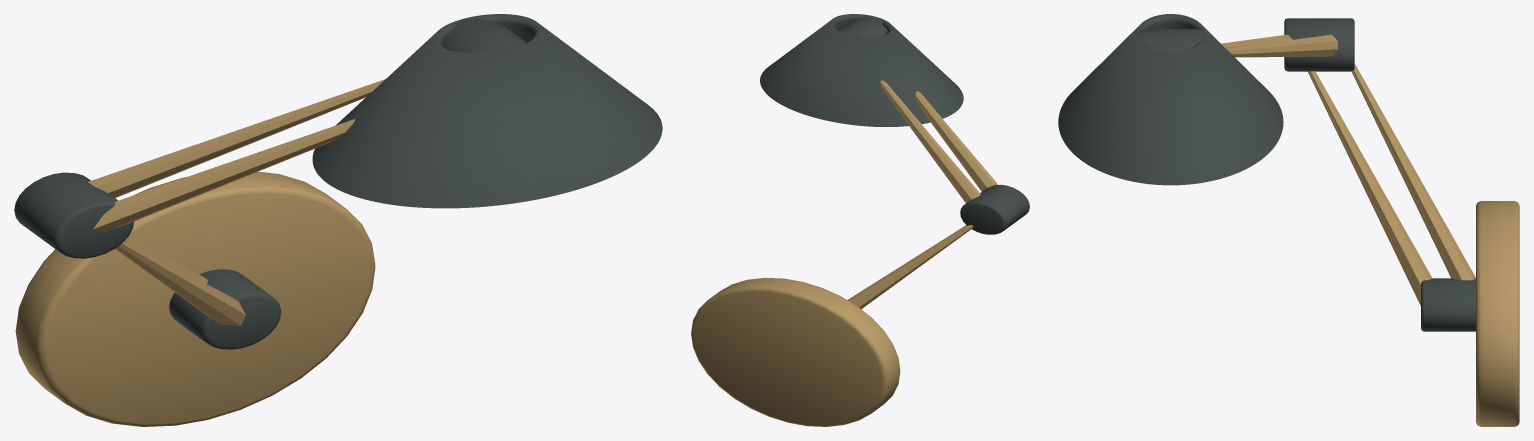
File: reading-wall-lamp.glb
3 views of the same model, side by side, from view 1: azimuth 30°, elevation 25°; view 2: azimuth 150°, elevation 25°; view 3: azimuth 270°, elevation 25° (orthographic). The views are drawn at different scales.
Visible parts, largest first — view 1: catalog_surface_RealismUV; view 2: catalog_surface_RealismUV; view 3: catalog_surface_RealismUV.
Part boxes in pixels (x1,y1,x2,y2): catalog_surface_RealismUV: (14, 14, 662, 426); catalog_surface_RealismUV: (691, 14, 1029, 426); catalog_surface_RealismUV: (1058, 14, 1519, 426).
Size of the model in its own units: 0.4 by 0.37 by 0.38.
